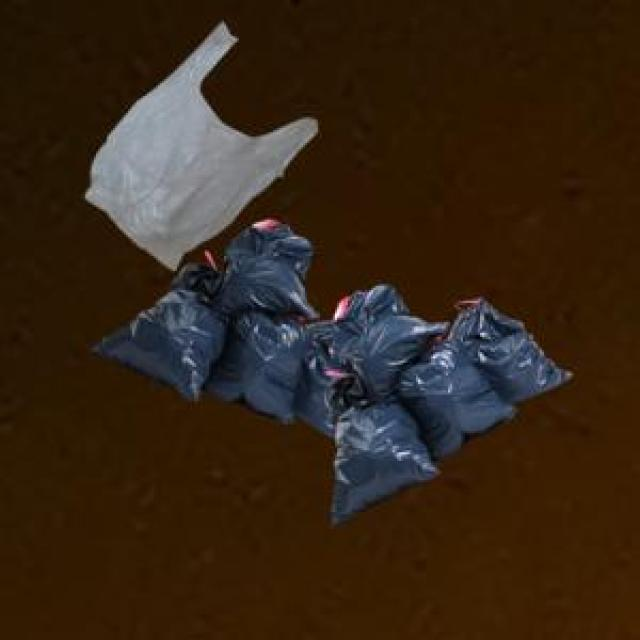miscellaneous trash: (322, 282, 568, 521), (88, 216, 350, 435)
